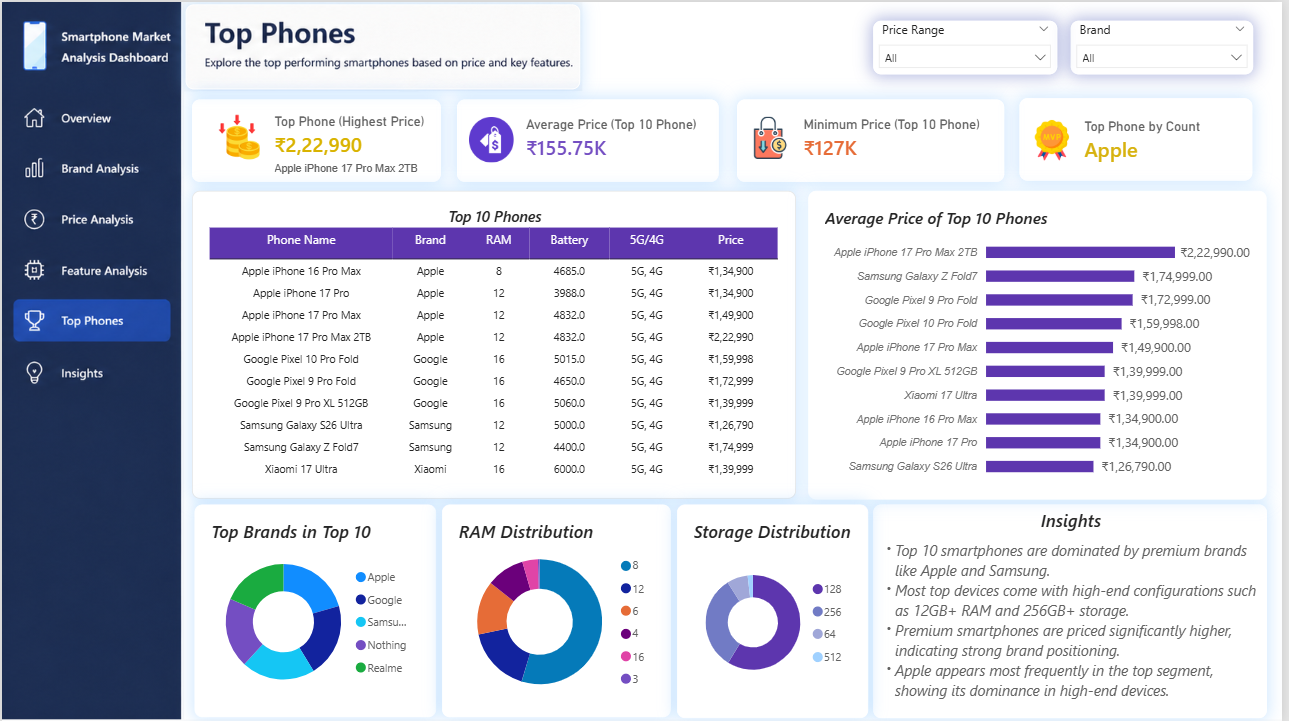

What the dashboard file says about the page in this screenshot:
{"tool":"powerbi","page":{"name":"Top Phones","canvas":[1280,720],"ordinal":4},"visuals":[{"type":"shape","title":"Insights","box":[871.2,502.5,393.8,213.8],"z":0},{"type":"shape","box":[1017.5,96.2,232.5,82.5],"z":1000},{"type":"shape","box":[190,97.5,248.8,82.5],"z":2000},{"type":"shape","box":[455,97.5,261.2,82.5],"z":3000},{"type":"shape","box":[735,97.5,267.5,82.5],"z":4000},{"type":"actionButton","box":[13.3,96.5,147.2,45.8],"z":5000},{"type":"actionButton","box":[13.3,142.4,147.2,45.8],"z":6000},{"type":"actionButton","box":[13.3,199.1,147.2,45.8],"z":7000},{"type":"actionButton","box":[13.3,244.9,158,45.8],"z":8000},{"type":"actionButton","box":[7.2,349.9,158,45.8],"z":9000},{"type":"slicer","fields":{"Values":["Phone_Specs.brand"]},"box":[1068.8,18.8,182.5,53.8],"z":10000},{"type":"slicer","fields":{"Values":["Phone_Specs.Price_Range"]},"box":[871.2,18.8,183.8,53.8],"z":11000},{"type":"cardVisual","fields":{"Data":["Max(Phone_Specs.price_inr)"]},"box":[202.7,97.5,236.2,75],"z":12000},{"type":"shape","box":[183.4,2.4,394.5,84.5],"z":13000},{"type":"cardVisual","fields":{"Data":["Min(Phone_Specs.phone_name)"]},"box":[255.2,150,178.8,30],"z":14000},{"type":"cardVisual","fields":{"Data":["Avg(Phone_Specs.price_inr)"]},"box":[455,103.8,261.2,68.8],"z":15000},{"type":"cardVisual","fields":{"Data":["Min(Phone_Specs.price_inr)"]},"box":[735,105,272.5,62.5],"z":16000},{"type":"cardVisual","fields":{"Data":["Min(Phone_Specs.brand)"]},"box":[1017.5,105,262.5,67.5],"z":17000},{"type":"tableEx","title":"Top 10 Phones","fields":{"Values":["Phone_Specs.phone_name","Phone_Specs.brand","Phone_Specs.RAM (GB) - Copy","Phone_Specs.Battery","Phone_Specs.network_support","Phone_Specs.price_inr"]},"box":[190,188.8,604,308],"z":18000},{"type":"barChart","title":"Average Price of Top 10 Phones","fields":{"Category":["Phone_Specs.phone_name"],"Y":["Avg(Phone_Specs.price_inr)"]},"box":[806.2,188.8,458.8,308.8],"z":19000},{"type":"donutChart","title":"Top Brands in Top 10","fields":{"Category":["Phone_Specs.brand"],"Y":["CountNonNull(Phone_Specs.brand)"]},"box":[192.5,502.5,241.2,212.5],"z":20000},{"type":"donutChart","title":"RAM Distribution","fields":{"Y":["CountNonNull(Phone_Specs.RAM (GB))"],"Category":["Phone_Specs.RAM (GB) - Copy"]},"box":[440,502.5,228.8,212.5],"z":21000},{"type":"donutChart","title":"Storage Distribution","fields":{"Category":["Phone_Specs.Storage (GB)"],"Y":["CountNonNull(Phone_Specs.phone_name)"]},"box":[675,502.5,191.2,213.8],"z":22000},{"type":"textbox","box":[875,537.5,390,177.5],"z":23000}]}

Visuals, with their boxes on the page's 1280x720 design canvas (x1, y1, x2, y2). These are canvas units, not pixel positions in the 1289x721 screenshot, which may show the page scaled, cropped or inside an application window:
"Insights" shape: box(871, 502, 1265, 716)
shape: box(1018, 96, 1250, 179)
shape: box(190, 98, 439, 180)
shape: box(455, 98, 716, 180)
shape: box(735, 98, 1002, 180)
actionButton: box(13, 96, 160, 142)
actionButton: box(13, 142, 160, 188)
actionButton: box(13, 199, 160, 245)
actionButton: box(13, 245, 171, 291)
actionButton: box(7, 350, 165, 396)
slicer - Phone_Specs.brand: box(1069, 19, 1251, 73)
slicer - Phone_Specs.Price_Range: box(871, 19, 1055, 73)
cardVisual - Max(Phone_Specs.price_inr): box(203, 98, 439, 172)
shape: box(183, 2, 578, 87)
cardVisual - Min(Phone_Specs.phone_name): box(255, 150, 434, 180)
cardVisual - Avg(Phone_Specs.price_inr): box(455, 104, 716, 173)
cardVisual - Min(Phone_Specs.price_inr): box(735, 105, 1008, 168)
cardVisual - Min(Phone_Specs.brand): box(1018, 105, 1280, 172)
"Top 10 Phones" tableEx: box(190, 189, 794, 497)
"Average Price of Top 10 Phones" barChart: box(806, 189, 1265, 498)
"Top Brands in Top 10" donutChart: box(192, 502, 434, 715)
"RAM Distribution" donutChart: box(440, 502, 669, 715)
"Storage Distribution" donutChart: box(675, 502, 866, 716)
textbox: box(875, 538, 1265, 715)
